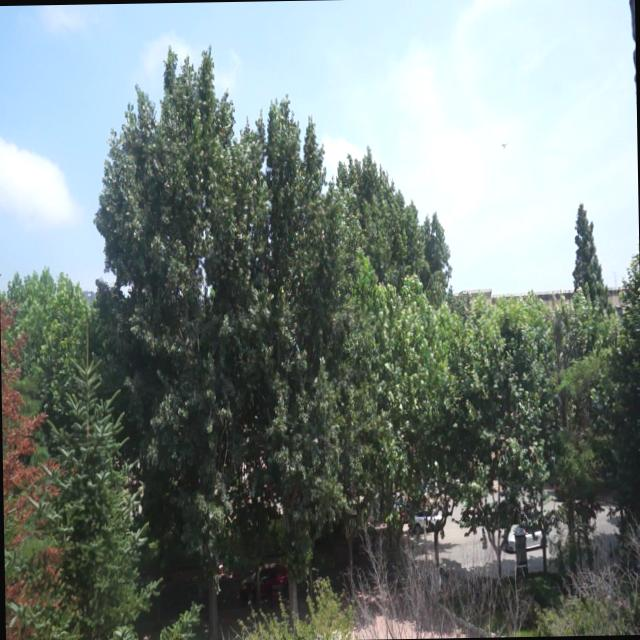drone: (500, 135, 510, 154)
